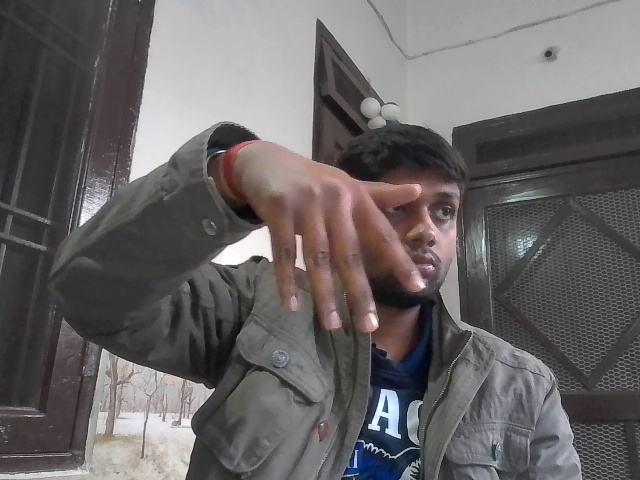HowAreYou: (234, 133, 450, 356)
